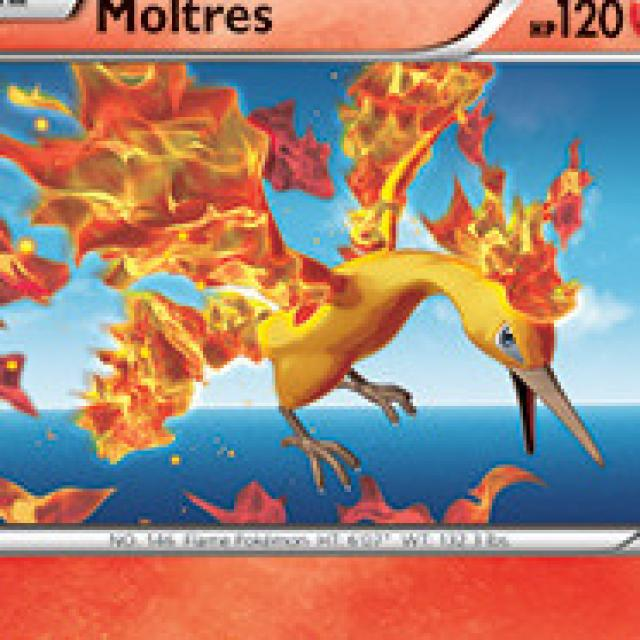Moltres: (205, 162, 578, 456)
